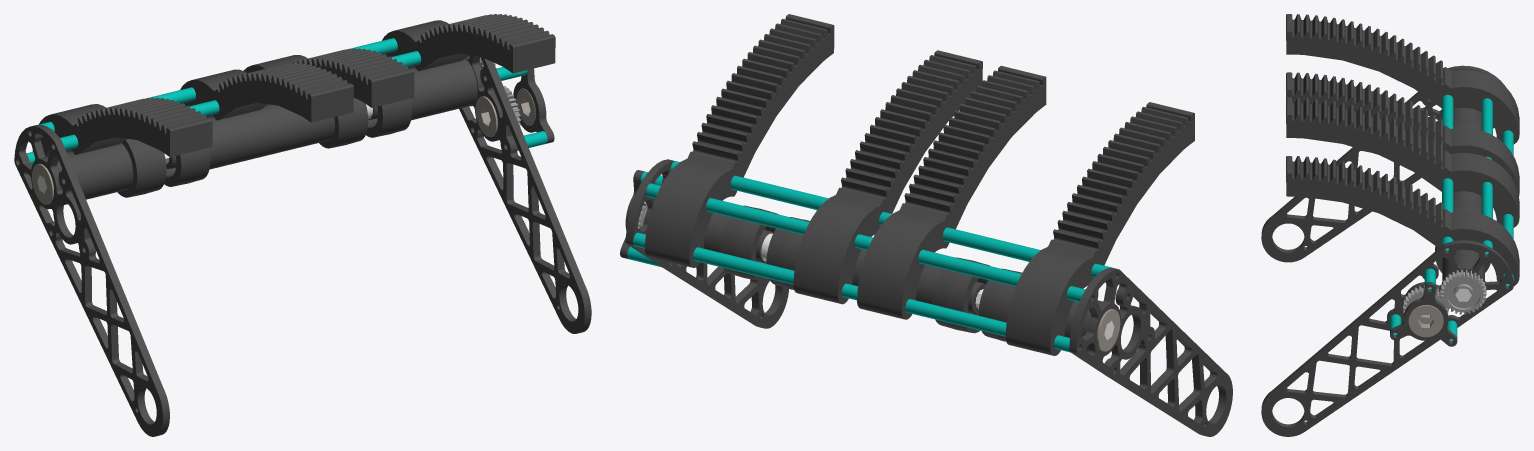
The picture shows the model from 3 angles, left to right: view 1: azimuth 30°, elevation 25°; view 2: azimuth 150°, elevation 25°; view 3: azimuth 270°, elevation 25°; orthographic projection. The views are drawn at different scales.
Parts seen in each view (by area): view 1: Component37 - FusionComponent v1(Mirror):1, Component37 - FusionComponent v3:1, Spur Gear (175 teeth):1, Spur Gear (175 teeth)(Mirror) (1):1, Spur Gear (175 teeth)(Mirror):1, Component77:1, Spur Gear (175 teeth)(Mirror)(Mirror):1, Component67:1, Component67(Mirror):1, Component87:1, 2in Tread(Mirror) (1):1, 2in Tread(Mirror):1 (+6 smaller); view 2: Spur Gear (175 teeth)(Mirror):1, Spur Gear (175 teeth)(Mirror) (1):1, Spur Gear (175 teeth):1, Spur Gear (175 teeth)(Mirror)(Mirror):1, Component37 - FusionComponent v1(Mirror):1, Component87:1, Component37 - FusionComponent v3:1, 2in Tread(Mirror)(Mirror):1, 2in Tread:1, 2in Tread(Mirror) (1):1, 2in Tread(Mirror):1, Component77:1 (+2 smaller); view 3: Spur Gear (175 teeth):1, Spur Gear (175 teeth)(Mirror)(Mirror):1, Spur Gear (175 teeth)(Mirror) (1):1, Component37 - FusionComponent v3:1, Spur Gear (175 teeth)(Mirror):1, Component37 - FusionComponent v1(Mirror):1, Component87:1, 29t gear v1:2, Component38:1, Bearings v1:16, Component67:1, 29t gear v1:1 (+5 smaller).
Part boxes in pixels (<box>): Component37 - FusionComponent v1(Mirror):1: <box>14,124,169,436</box>; Component37 - FusionComponent v3:1: <box>459,55,591,333</box>; Spur Gear (175 teeth):1: <box>32,97,212,157</box>; Spur Gear (175 teeth)(Mirror) (1):1: <box>382,14,555,73</box>; Spur Gear (175 teeth)(Mirror):1: <box>180,63,353,122</box>; Component77:1: <box>209,104,334,169</box>; Spur Gear (175 teeth)(Mirror)(Mirror):1: <box>243,48,414,107</box>; Component67:1: <box>409,58,477,120</box>; Component67(Mirror):1: <box>47,143,133,204</box>; Component87:1: <box>26,38,421,163</box>; 2in Tread(Mirror) (1):1: <box>117,139,166,197</box>; 2in Tread(Mirror):1: <box>319,98,368,148</box>; Spur Gear (175 teeth)(Mirror):1: <box>857,65,1046,319</box>; Spur Gear (175 teeth)(Mirror) (1):1: <box>645,14,834,267</box>; Spur Gear (175 teeth):1: <box>1005,102,1194,355</box>; Spur Gear (175 teeth)(Mirror)(Mirror):1: <box>793,50,982,304</box>; Component37 - FusionComponent v1(Mirror):1: <box>1069,267,1232,436</box>; Component87:1: <box>633,161,1111,352</box>; Component37 - FusionComponent v3:1: <box>625,159,788,328</box>; 2in Tread(Mirror)(Mirror):1: <box>932,257,990,333</box>; 2in Tread:1: <box>720,205,778,281</box>; 2in Tread(Mirror) (1):1: <box>978,268,1021,341</box>; 2in Tread(Mirror):1: <box>766,217,809,289</box>; Component77:1: <box>852,249,941,304</box>; Spur Gear (175 teeth):1: <box>1286,14,1519,144</box>; Spur Gear (175 teeth)(Mirror)(Mirror):1: <box>1286,97,1519,227</box>; Spur Gear (175 teeth)(Mirror) (1):1: <box>1286,156,1519,285</box>; Component37 - FusionComponent v3:1: <box>1261,240,1513,436</box>; Spur Gear (175 teeth)(Mirror):1: <box>1286,72,1519,196</box>; Component37 - FusionComponent v1(Mirror):1: <box>1261,65,1505,262</box>; Component87:1: <box>1442,94,1513,285</box>; 29t gear v1:2: <box>1440,269,1486,314</box>; Component38:1: <box>1390,281,1457,346</box>; Bearings v1:16: <box>1408,305,1443,337</box>; Component67:1: <box>1442,249,1484,280</box>; 29t gear v1:1: <box>1403,285,1448,324</box>.
Bounding box in the file's own units: 0.408 × 0.2486 × 0.2284.
